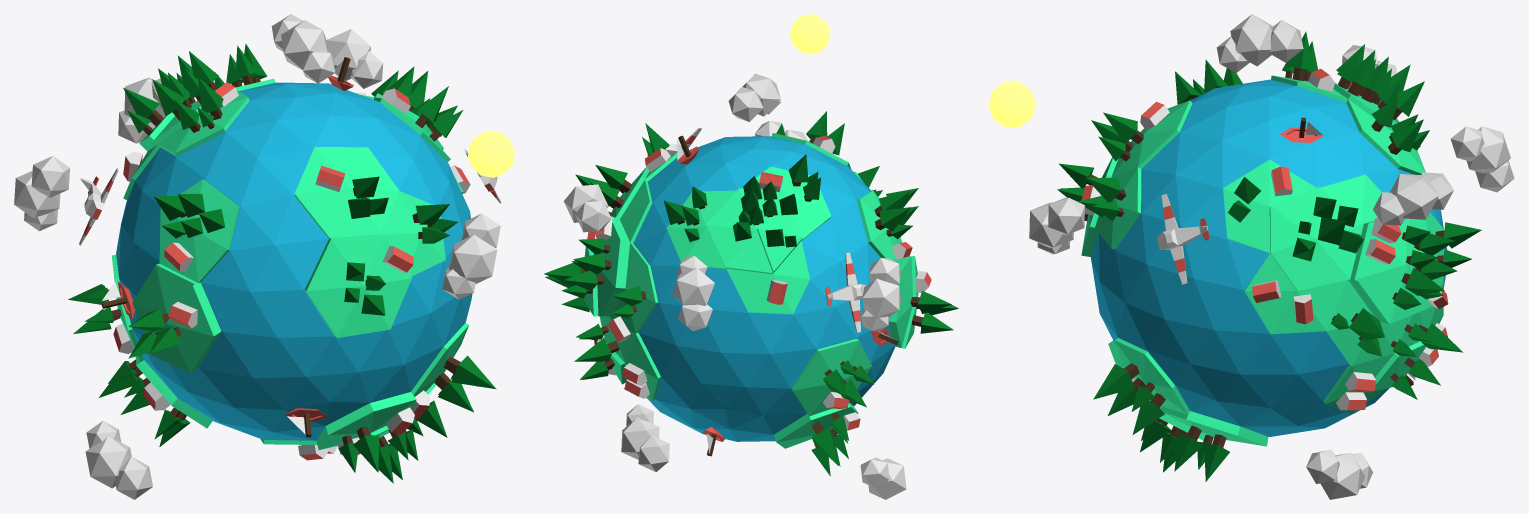
File: World.fbx
3 renders of one model, left to right at view 1: azimuth 30°, elevation 25°; view 2: azimuth 150°, elevation 25°; view 3: azimuth 270°, elevation 25°, orthographic. The views are drawn at different scales.
Visible parts, largest first — view 1: Water, Earth, Icosphere.005, Icosphere.002, Icosphere.006, Icosphere, Icosphere.001, Sun, Icosphere.004, Plane.001, Tree.080, Tree.081 (+12 smaller); view 2: Water, Earth, Icosphere.006, Icosphere.004, Icosphere.003, Icosphere, Icosphere.001, Icosphere.005, Sun, Plane.001, Tree.054, Tree.065 (+7 smaller); view 3: Water, Earth, Icosphere, Icosphere.001, Icosphere.004, Icosphere.003, Icosphere.002, Sun, Plane, Tree.080, Tree.056, Tree.070 (+13 smaller).
Boxes of the visible parts, box(x1,y1,x2,y2) form: Water: box(116, 82, 472, 440); Earth: box(111, 78, 468, 449); Icosphere.005: box(85, 421, 152, 499); Icosphere.002: box(442, 213, 500, 299); Icosphere.006: box(14, 156, 69, 231); Icosphere: box(271, 14, 335, 83); Icosphere.001: box(325, 29, 383, 88); Sun: box(468, 130, 514, 177); Icosphere.004: box(118, 77, 165, 143); Plane.001: box(79, 167, 118, 245); Tree.080: box(444, 355, 496, 389); Tree.081: box(353, 427, 379, 472); Water: box(633, 136, 894, 441); Earth: box(582, 133, 918, 448); Icosphere.006: box(861, 258, 900, 331); Icosphere.004: box(672, 255, 714, 331); Icosphere.003: box(621, 404, 669, 471); Icosphere: box(728, 73, 780, 121); Icosphere.001: box(563, 184, 611, 232); Icosphere.005: box(860, 457, 906, 499); Sun: box(790, 14, 830, 54); Plane.001: box(825, 252, 866, 332); Tree.054: box(574, 338, 619, 361); Tree.065: box(811, 422, 838, 465); Water: box(1091, 79, 1447, 436); Earth: box(1081, 75, 1444, 446); Icosphere: box(1216, 14, 1303, 73); Icosphere.001: box(1373, 172, 1453, 225); Icosphere.004: box(1450, 126, 1514, 192); Icosphere.003: box(1306, 449, 1373, 499); Icosphere.002: box(1029, 197, 1084, 254); Sun: box(988, 82, 1035, 127); Plane: box(1156, 194, 1209, 284); Tree.080: box(1093, 363, 1139, 399); Tree.056: box(1349, 308, 1384, 339); Tree.070: box(1204, 434, 1229, 481).
Bounding box in the file's own units: 275 × 281 × 308.
